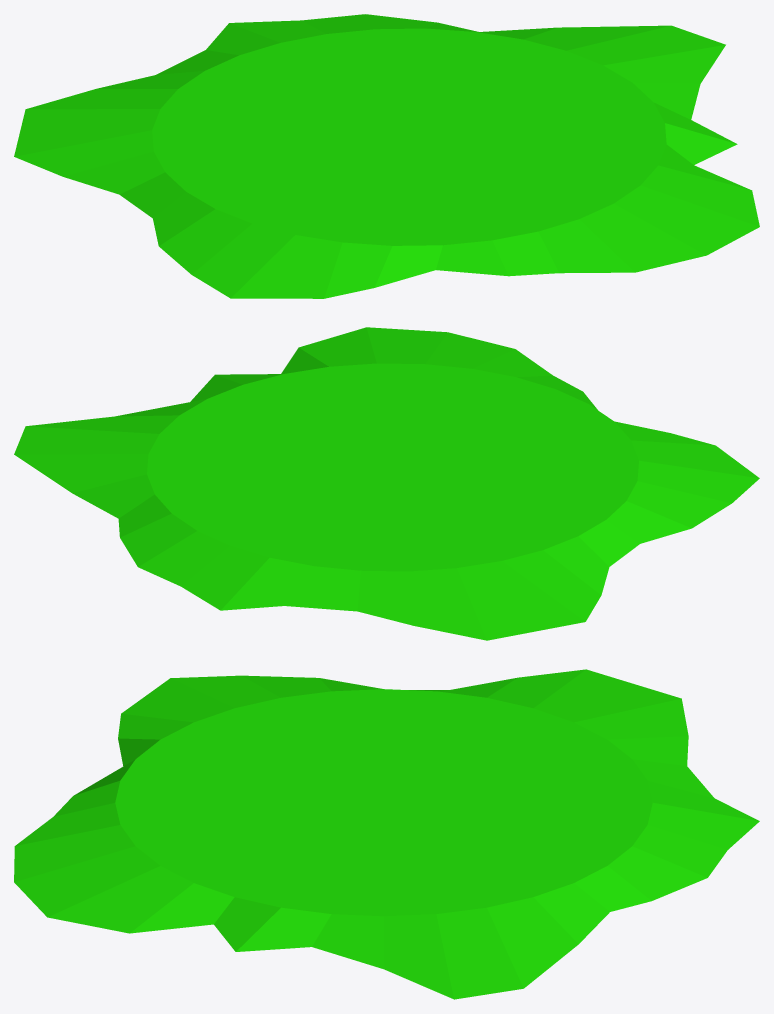
Rendered from PoisonPool.fbx.
3 views of the same model, one above another, from view 1: azimuth 30°, elevation 25°; view 2: azimuth 150°, elevation 25°; view 3: azimuth 270°, elevation 25° (orthographic). The views are drawn at different scales.
Visible parts, largest first — view 1: PoisionPool; view 2: PoisionPool; view 3: PoisionPool.
Part boxes in pixels (<box>): PoisionPool: <box>14,14,759,298</box>; PoisionPool: <box>14,327,759,640</box>; PoisionPool: <box>14,669,759,999</box>.
Bounding box in the file's own units: 291 × 11.74 × 278.
